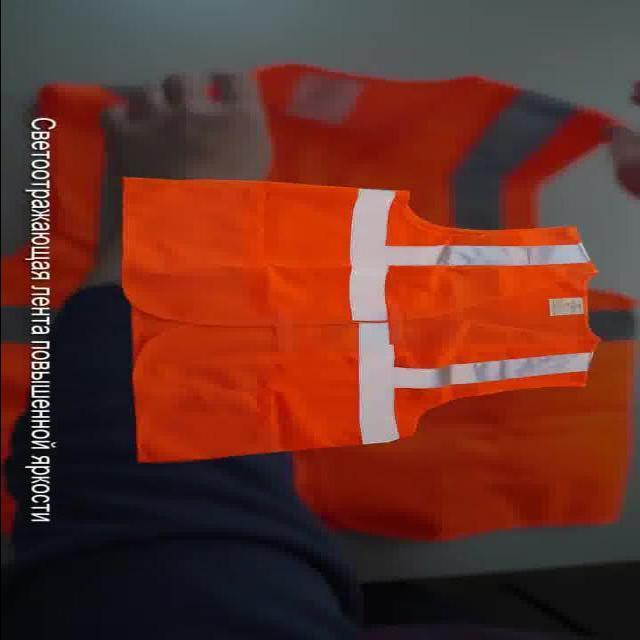vest: (114, 174, 601, 464)
